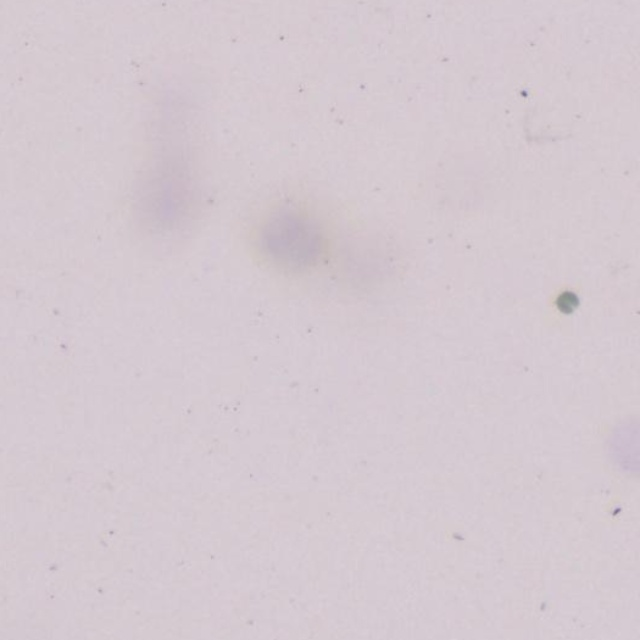non_viable: (556, 290, 579, 313)
